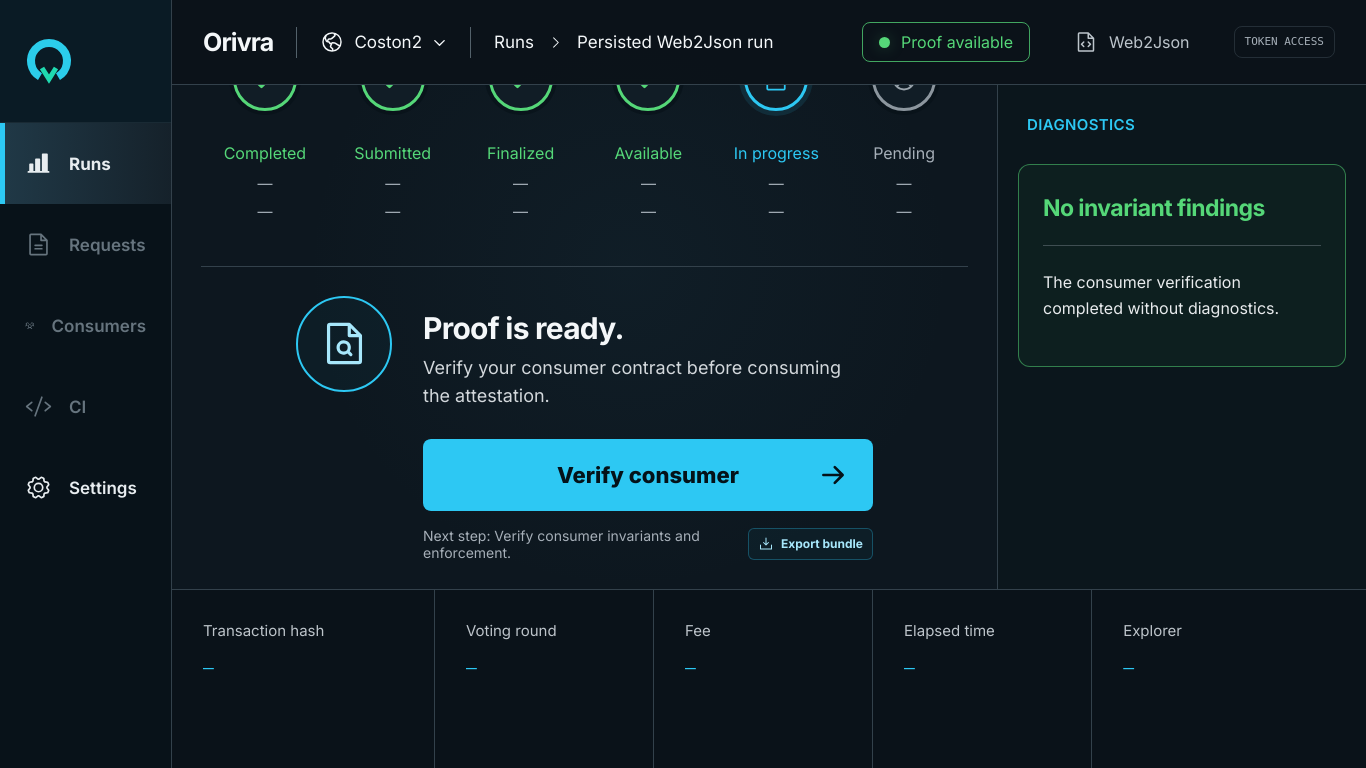
Scenario: ProductEventV1 journey instrumentation › records an actual invariant failure and successful safe codegen exactly once
The image size is (1366, 768).
(page scrolled)
Click the button "Verify consumer".
click(648, 475)  # box [423,439,873,511]
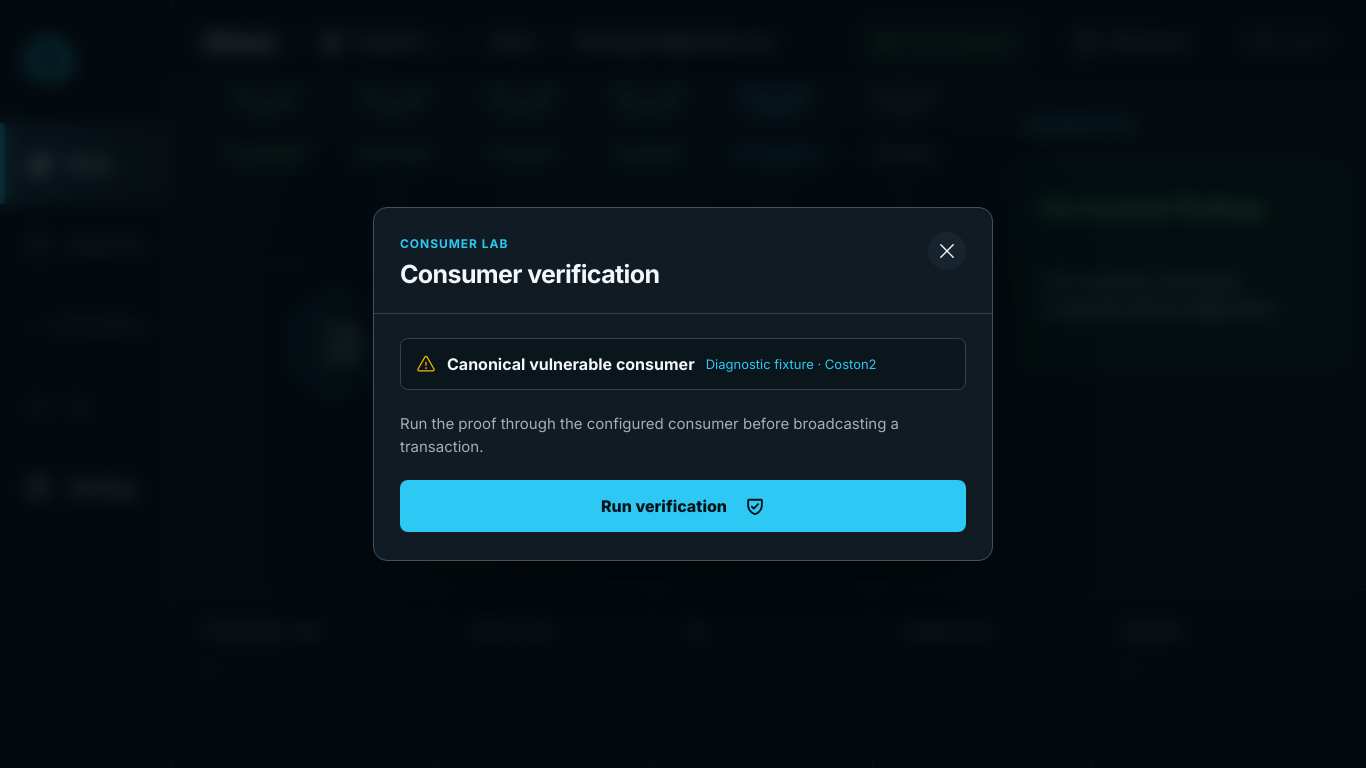
Click the button "Run verification".
click(683, 506)  # box [400,480,966,532]
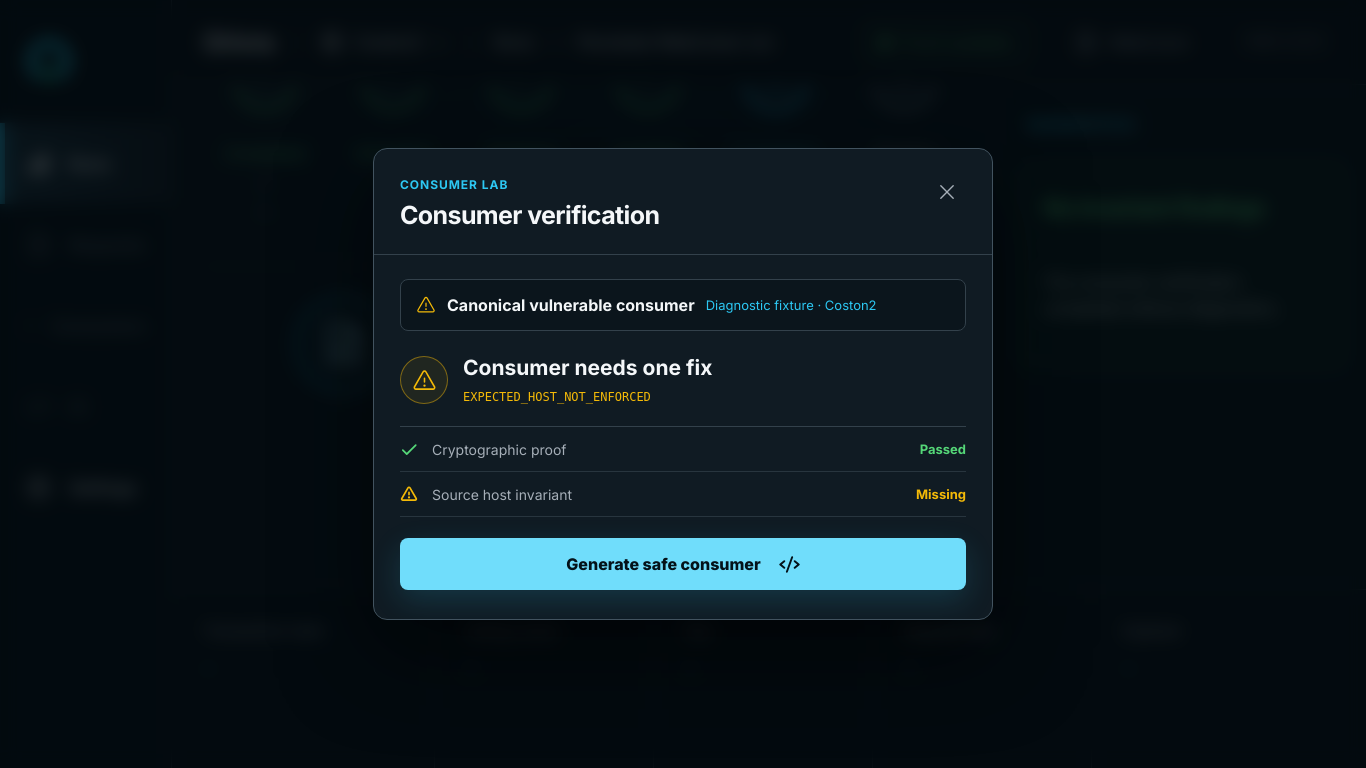
Result: the heading "Consumer needs one fix" is shown at [463,355,712,380]
Click the button "Generate safe consumer".
click(683, 564)  # box [400,538,966,590]
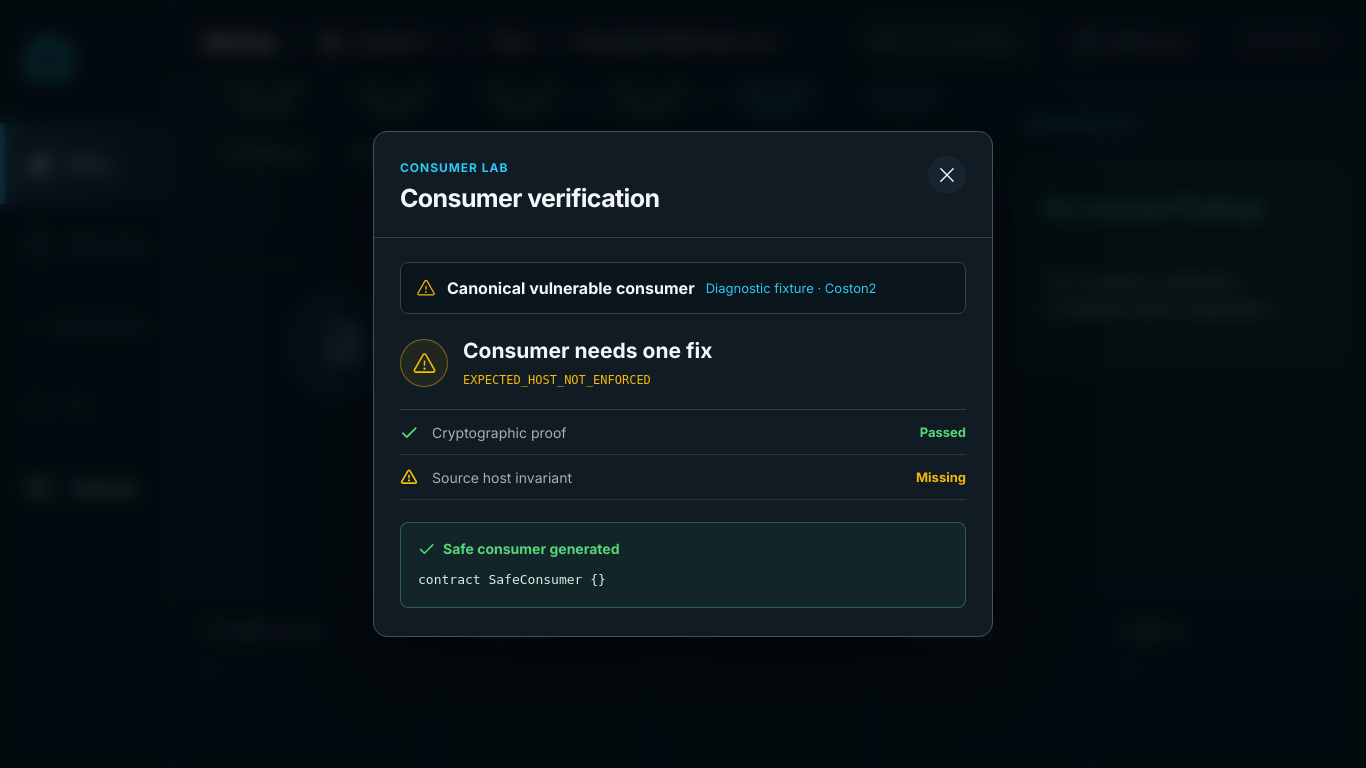
Result: the text "Safe consumer generated" is shown at [418,540,620,557]
